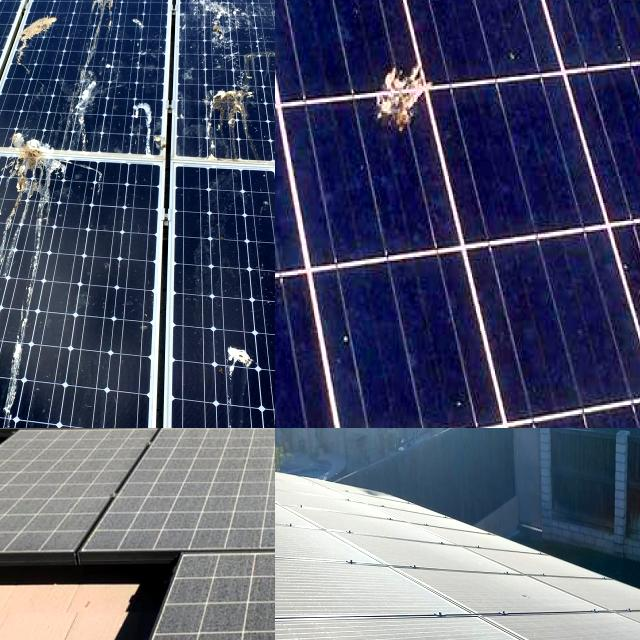bird: (1, 126, 76, 225), (370, 51, 442, 154), (190, 67, 262, 159), (199, 332, 272, 393), (194, 0, 253, 69), (101, 92, 160, 158), (0, 138, 36, 238), (0, 321, 35, 398), (3, 0, 51, 55), (0, 0, 41, 53), (258, 189, 275, 307), (0, 365, 30, 428), (61, 0, 120, 28), (0, 132, 25, 197), (95, 0, 126, 30)
dust: (162, 439, 275, 536), (275, 533, 432, 602), (448, 528, 550, 623), (180, 557, 275, 640), (8, 432, 80, 538), (275, 484, 371, 539), (275, 461, 304, 585), (392, 617, 526, 640), (275, 610, 371, 640), (546, 614, 640, 640), (144, 428, 228, 452), (40, 428, 86, 450)
